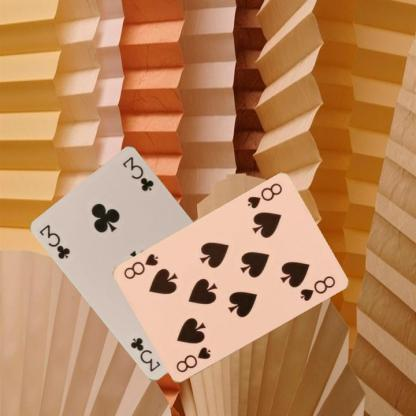3c: (37, 221, 73, 261)
8s: (173, 344, 212, 374), (244, 181, 284, 210)
